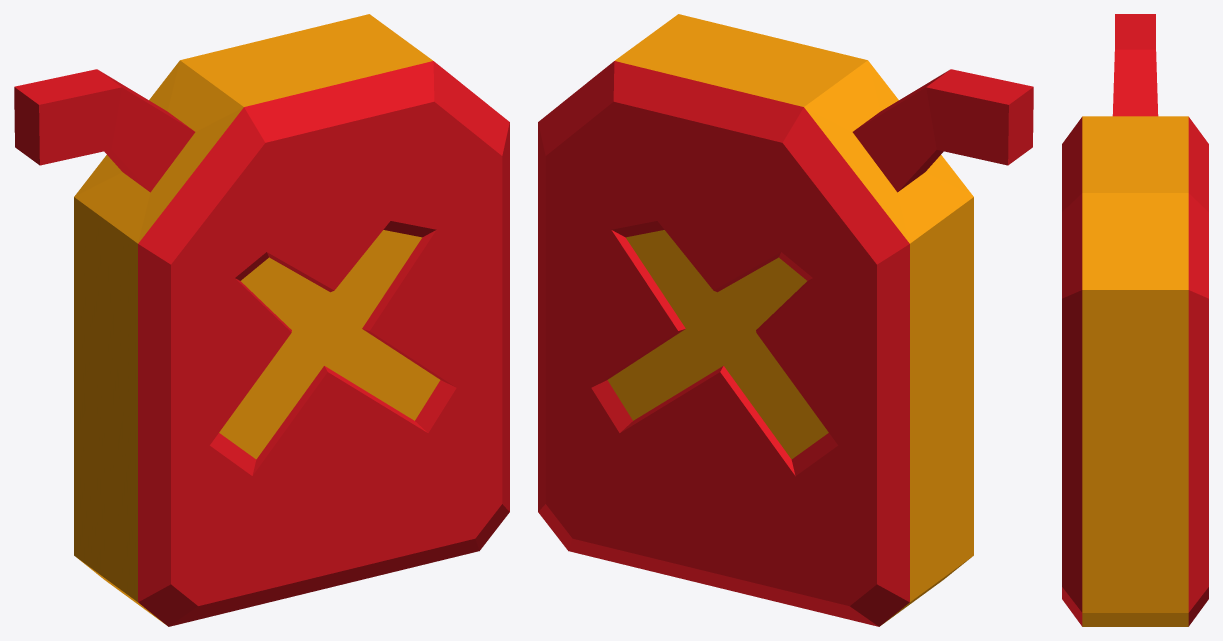
Rendered from JerryCanFuel.fbx.
3 renders of one model, left to right at view 1: azimuth 30°, elevation 25°; view 2: azimuth 150°, elevation 25°; view 3: azimuth 270°, elevation 25°, orthographic. The views are drawn at different scales.
Parts seen in each view (by area): view 1: Cube; view 2: Cube; view 3: Cube.
Part boxes in pixels (bbox=[...]): Cube: bbox=[14, 14, 509, 626]; Cube: bbox=[538, 14, 1033, 626]; Cube: bbox=[1062, 14, 1208, 626].
Size of the model in its own units: 3.54 by 4 by 1.2.
